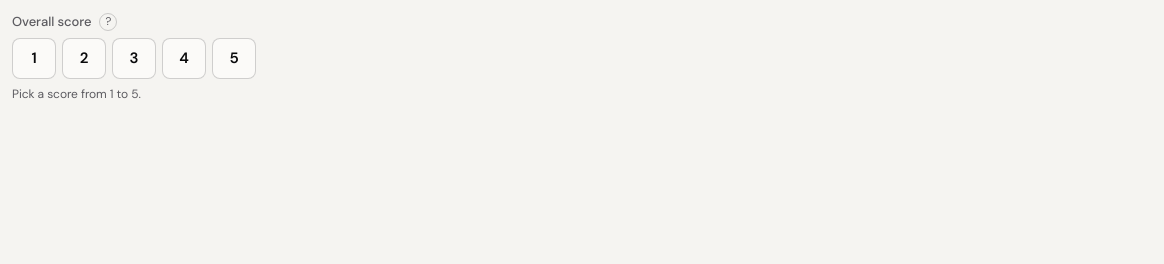
Test: the full-scale popover › lists all five anchors when opened
This screenshot has width=1164, height=264.
Click the button named "What the scores mean": click(108, 22) [99,13,117,31]
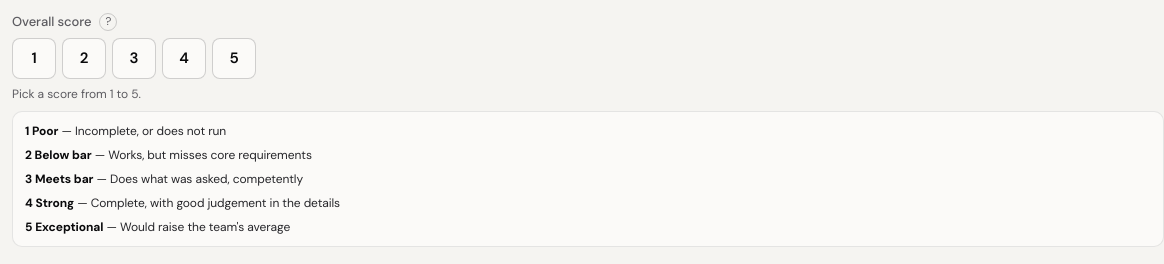
Check: the list item "1 Poor — Incomplete, or does not run" is shown, box [25,123,226,139]
Check: the list item "2 Below bar — Works, but misses core requirements" is shown, box [25,147,312,163]
Check: the list item "3 Meets bar — Does what was asked, competently" is shown, box [25,171,303,187]
